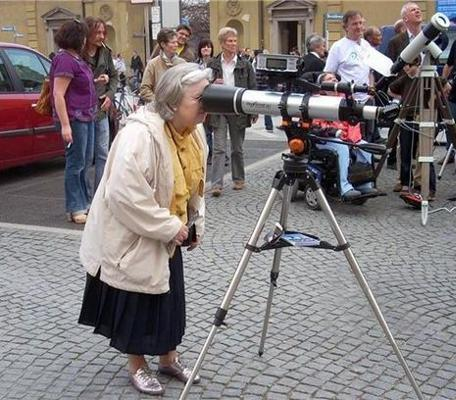person: (75, 65, 208, 393)
